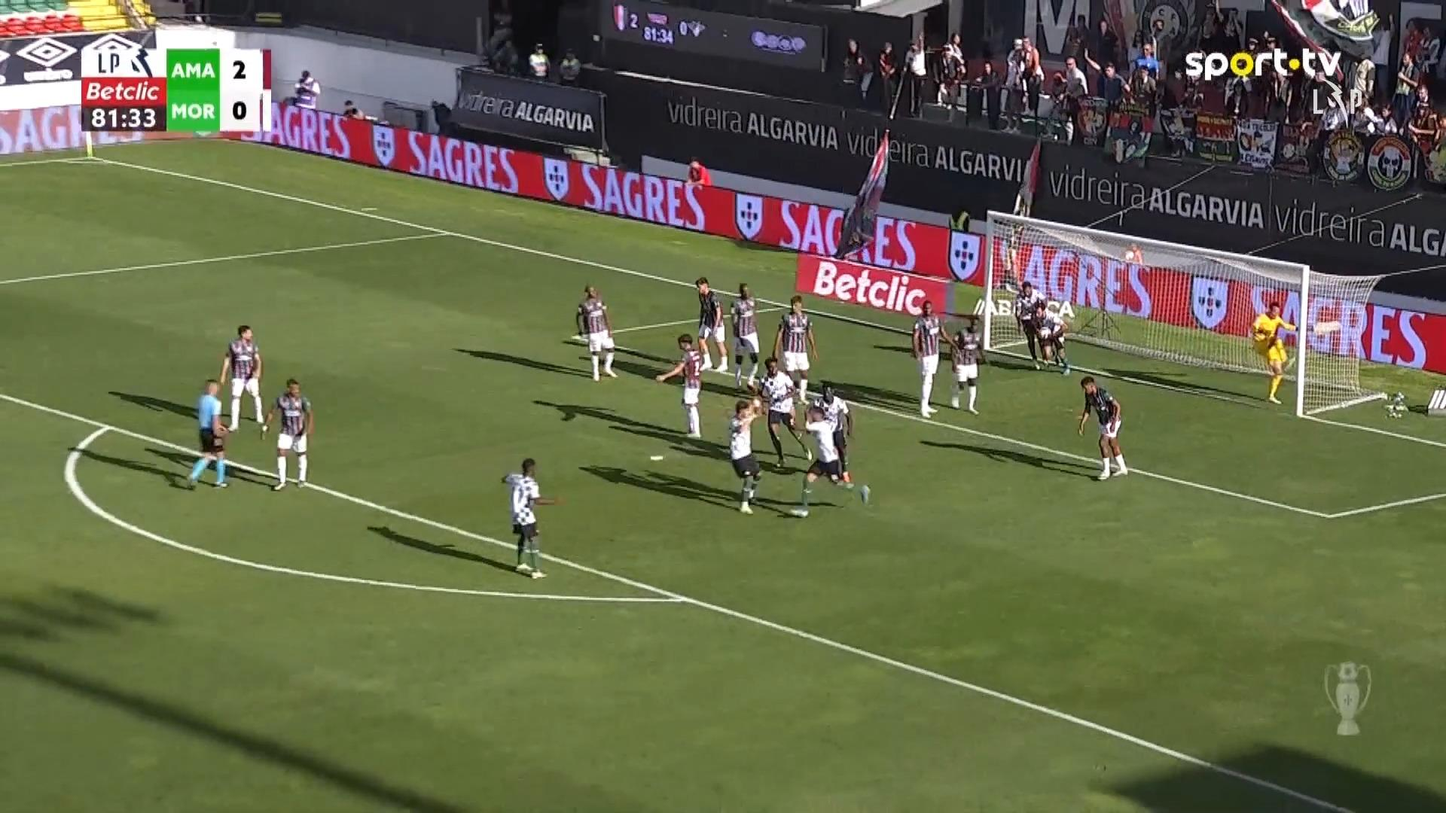goalkeeper: (1249, 300, 1297, 404)
player: (789, 382, 871, 517), (501, 457, 564, 579), (757, 356, 813, 470), (261, 377, 313, 490), (216, 324, 267, 433), (1076, 375, 1128, 480), (654, 333, 706, 438), (771, 294, 818, 405), (911, 299, 950, 418), (813, 382, 855, 486), (728, 396, 764, 514), (577, 284, 618, 382), (945, 318, 986, 414), (729, 282, 761, 391), (694, 276, 729, 373), (1011, 279, 1045, 369), (1034, 299, 1072, 376)
referee: (185, 378, 230, 487)
